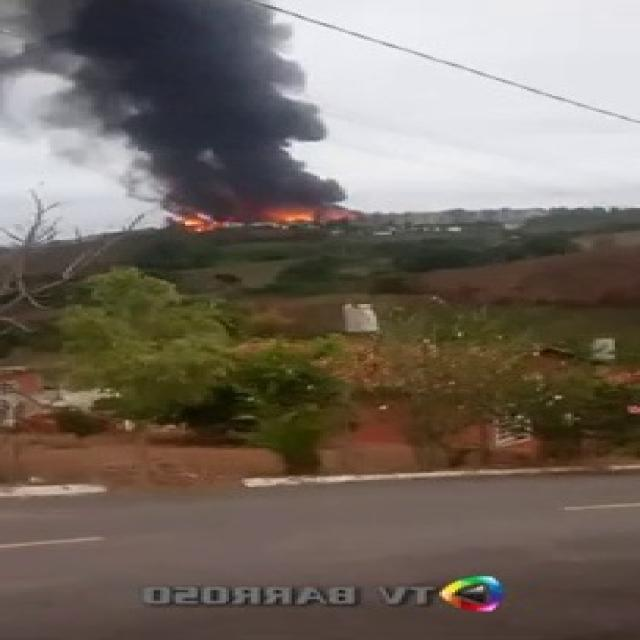Fire: (174, 206, 385, 226)
Smoke: (68, 0, 276, 199)
